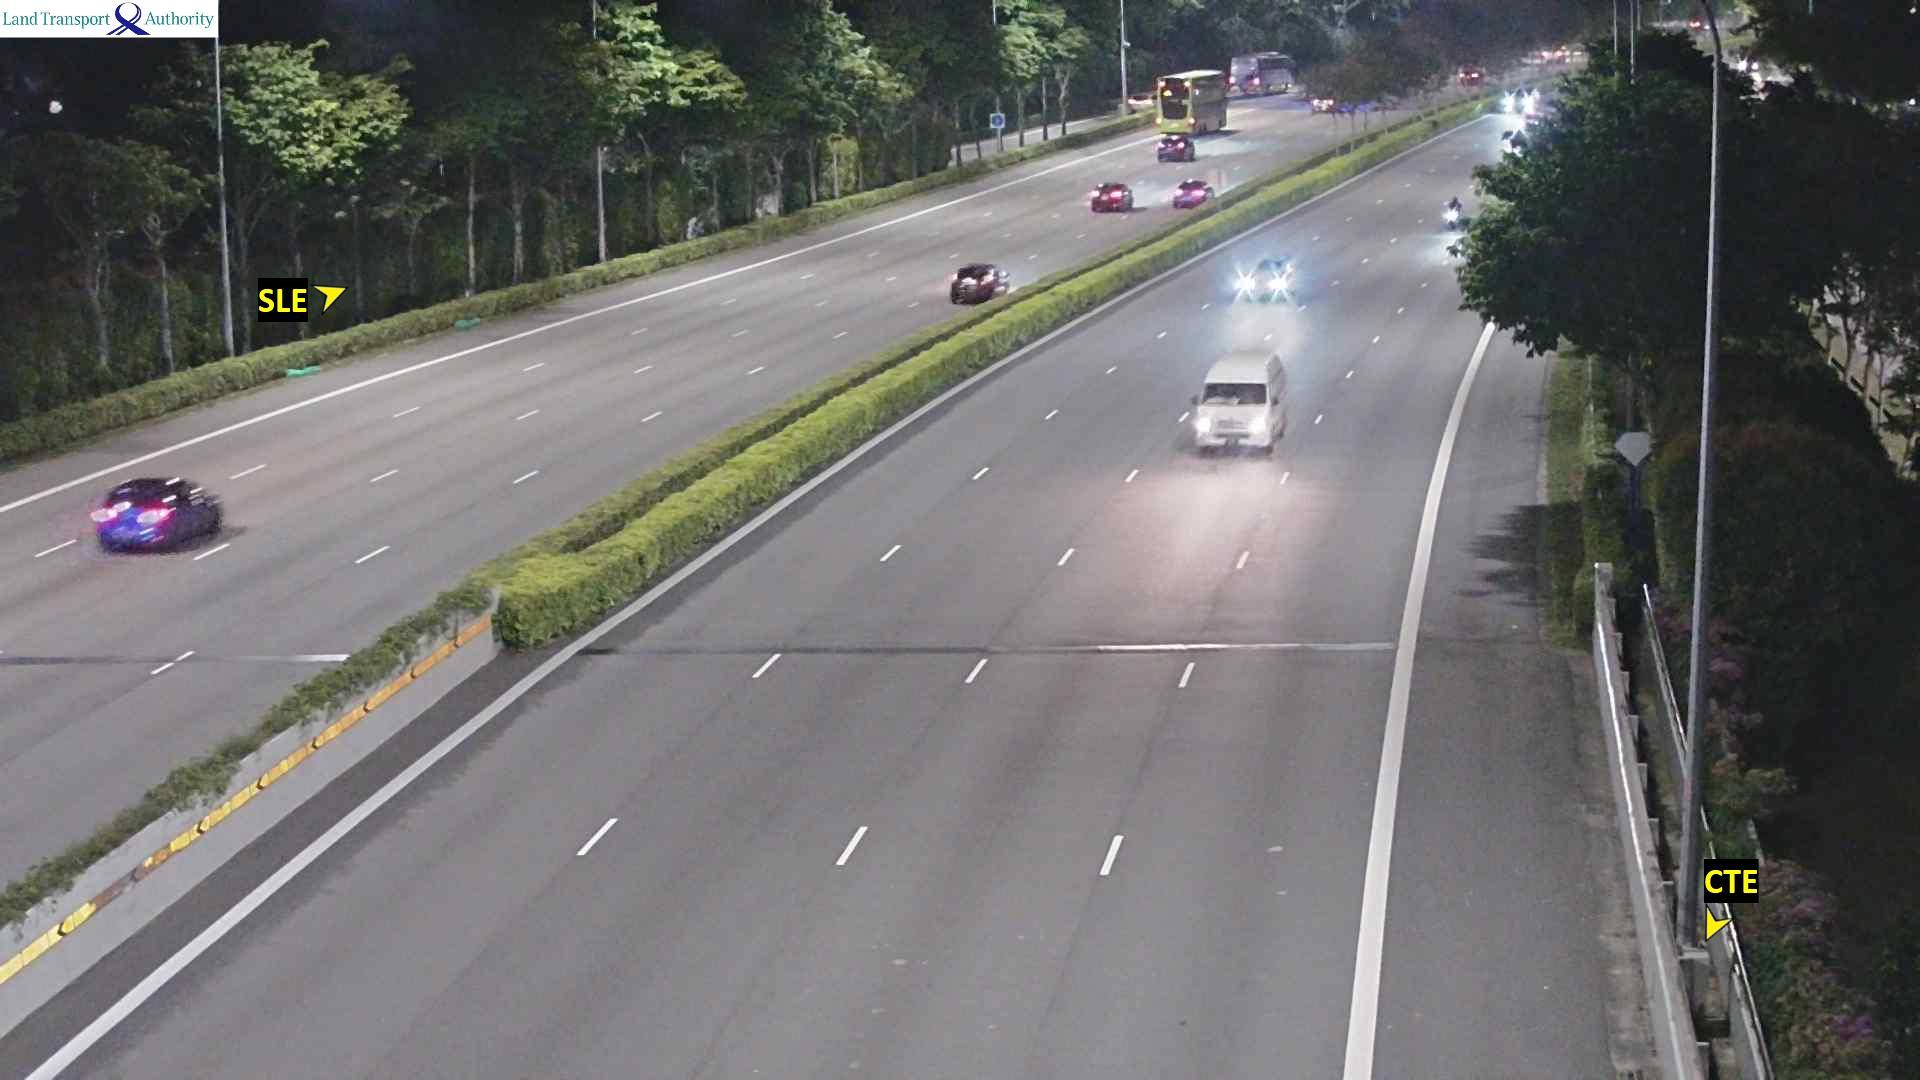bus: (1154, 68, 1226, 135), (1227, 51, 1296, 96)
cars: (1177, 347, 1287, 454), (88, 473, 222, 552), (1235, 256, 1296, 303), (948, 262, 1010, 304), (1502, 81, 1543, 117), (1089, 181, 1132, 212), (1171, 178, 1213, 209), (1155, 133, 1194, 162), (1127, 89, 1154, 112), (1457, 64, 1484, 84), (1309, 94, 1335, 113)
motorcycle: (1441, 193, 1466, 233)
